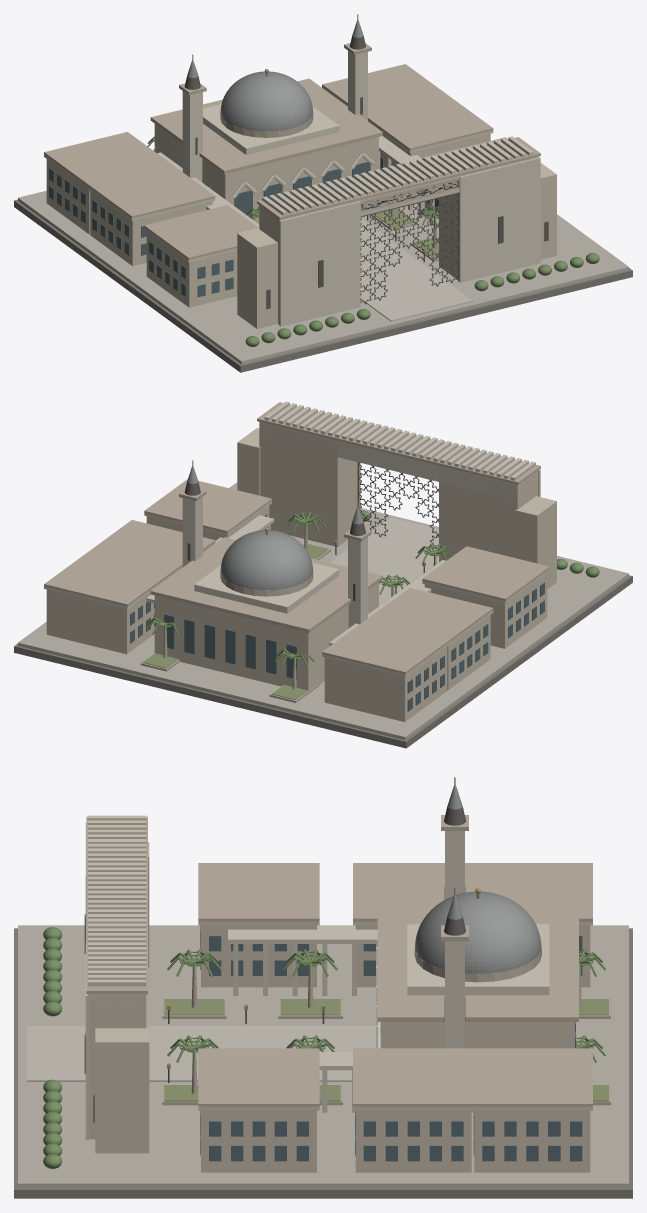
The model's file is jamiah-imam.glb.
3 views of the same model, one above another, from view 1: azimuth 30°, elevation 25°; view 2: azimuth 150°, elevation 25°; view 3: azimuth 270°, elevation 25° (orthographic). The views are drawn at different scales.
Parts seen in each view (by area): view 1: wall_2, wall_5, wall_10, wall_3, wall_1, wall_838, wall_837, mosque_dome_841, wall_761, wall_650, wall_683, wall_7 (+18 smaller); view 2: wall_2, wall_9, wall_837, wall_4, wall_838, wall_1, wall_681, wall_792, mosque_dome_841, wall_617, wall_3, wall_794 (+17 smaller); view 3: wall_2, wall_838, wall_3, wall_1, wall_617, wall_728, wall_761, wall_794, wall_12, mosque_dome_841, wall_792, wall_759 (+21 smaller).
Boxes of the visible parts, x1,y1,x2,y2 form: wall_2: (18,190,628,364); wall_5: (279,201,360,326); wall_10: (459,157,540,282); wall_3: (360,219,472,321); wall_1: (14,199,632,372); wall_838: (150,78,382,174); wall_837: (154,124,378,223); mosque_dome_841: (220,71,312,131); wall_761: (368,96,493,150); wall_650: (87,164,215,218); wall_683: (44,132,171,185); wall_7: (237,228,277,328); wall_2: (18,482,628,740); wall_9: (259,424,357,546); wall_837: (154,582,378,690); wall_4: (439,468,538,561); wall_838: (150,537,382,632); wall_1: (14,575,632,748); wall_681: (324,647,447,721); wall_792: (46,589,154,654); mosque_dome_841: (220,530,312,590); wall_617: (422,546,549,600); wall_3: (329,517,438,605); wall_794: (44,551,171,606); wall_2: (18,925,628,1188); wall_838: (377,911,578,1021); wall_3: (27,1026,381,1081); wall_1: (14,928,632,1198); wall_617: (198,863,319,921); wall_728: (198,1048,319,1106); wall_761: (353,1048,474,1106); wall_794: (471,1048,592,1106); wall_12: (95,1027,149,1153); mosque_dome_841: (415,891,541,973); wall_792: (474,1110,590,1172); wall_759: (355,1110,471,1172).
Bounding box in the file's own units: 24 × 10.07 × 24.
1 material, 1 textured.
